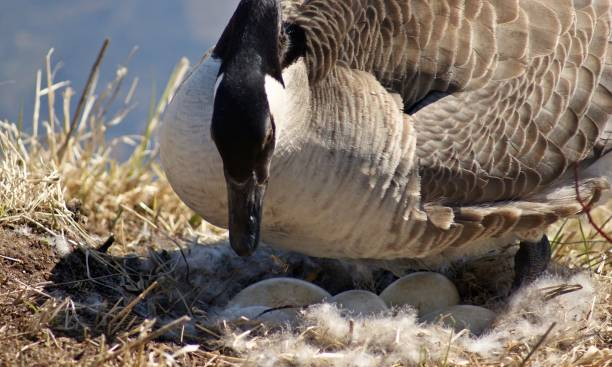goose: (203, 1, 612, 290)
